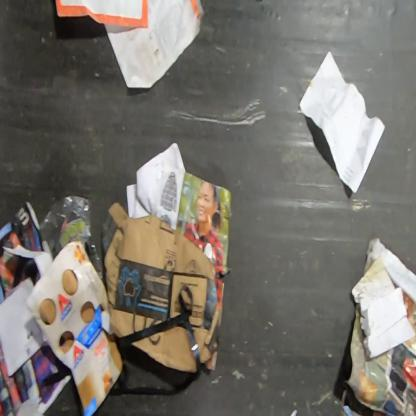cardboard: (100, 200, 222, 372), (25, 240, 124, 415), (131, 326, 197, 373)
soft_plastic: (109, 284, 202, 396), (38, 194, 104, 280)
